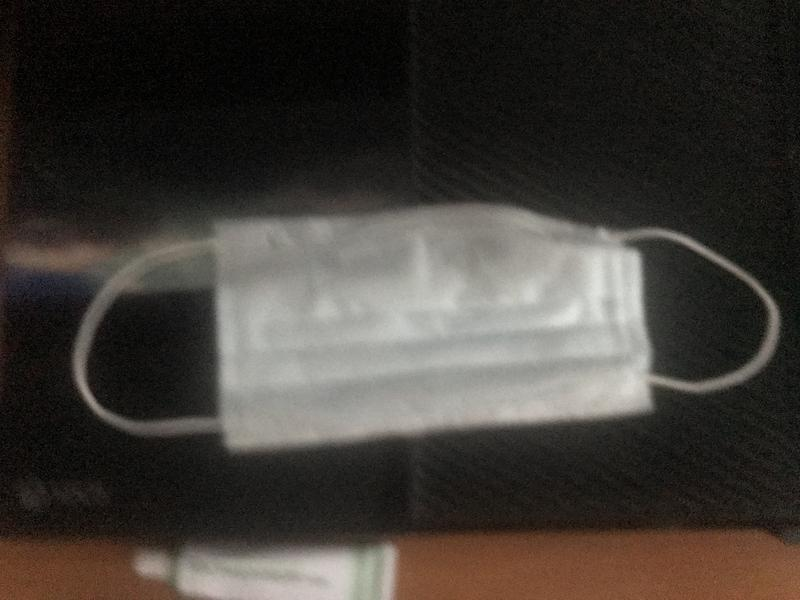medical_mask: (78, 200, 781, 457)
